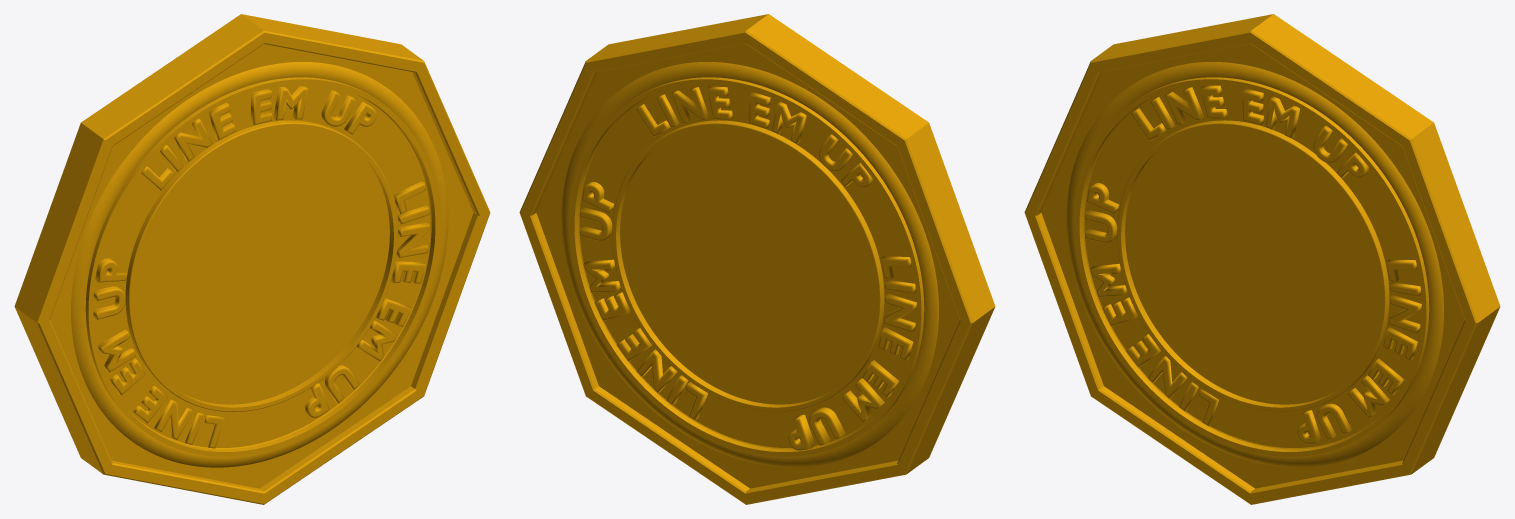
The model's file is 20220425_GAMESPAWN_LINEemUP_COIN V4.0 with TEXT.fbx.
3 views of the same model, side by side, from view 1: azimuth 30°, elevation 25°; view 2: azimuth 150°, elevation 25°; view 3: azimuth 330°, elevation 25° (orthographic).
Visible parts, largest first — view 1: Cylinder, Text, Text.001, Text.002; view 2: Cylinder, Text.005, Text.004, Text.003; view 3: Cylinder, Text, Text.001, Text.002.
Boxes of the visible parts, x1,y1,x2,y2 form: Cylinder: (14,14,490,504); Text: (141,86,376,190); Text.001: (305,181,429,417); Text.002: (93,258,224,448); Cylinder: (519,14,995,504); Text.005: (788,256,916,450); Text.004: (580,182,708,420); Text.003: (636,86,872,187); Cylinder: (1024,14,1500,504); Text: (1131,85,1368,178); Text.001: (1297,259,1421,444); Text.002: (1085,183,1218,425).
Bounding box in the file's own units: 400 × 400 × 39.05.
